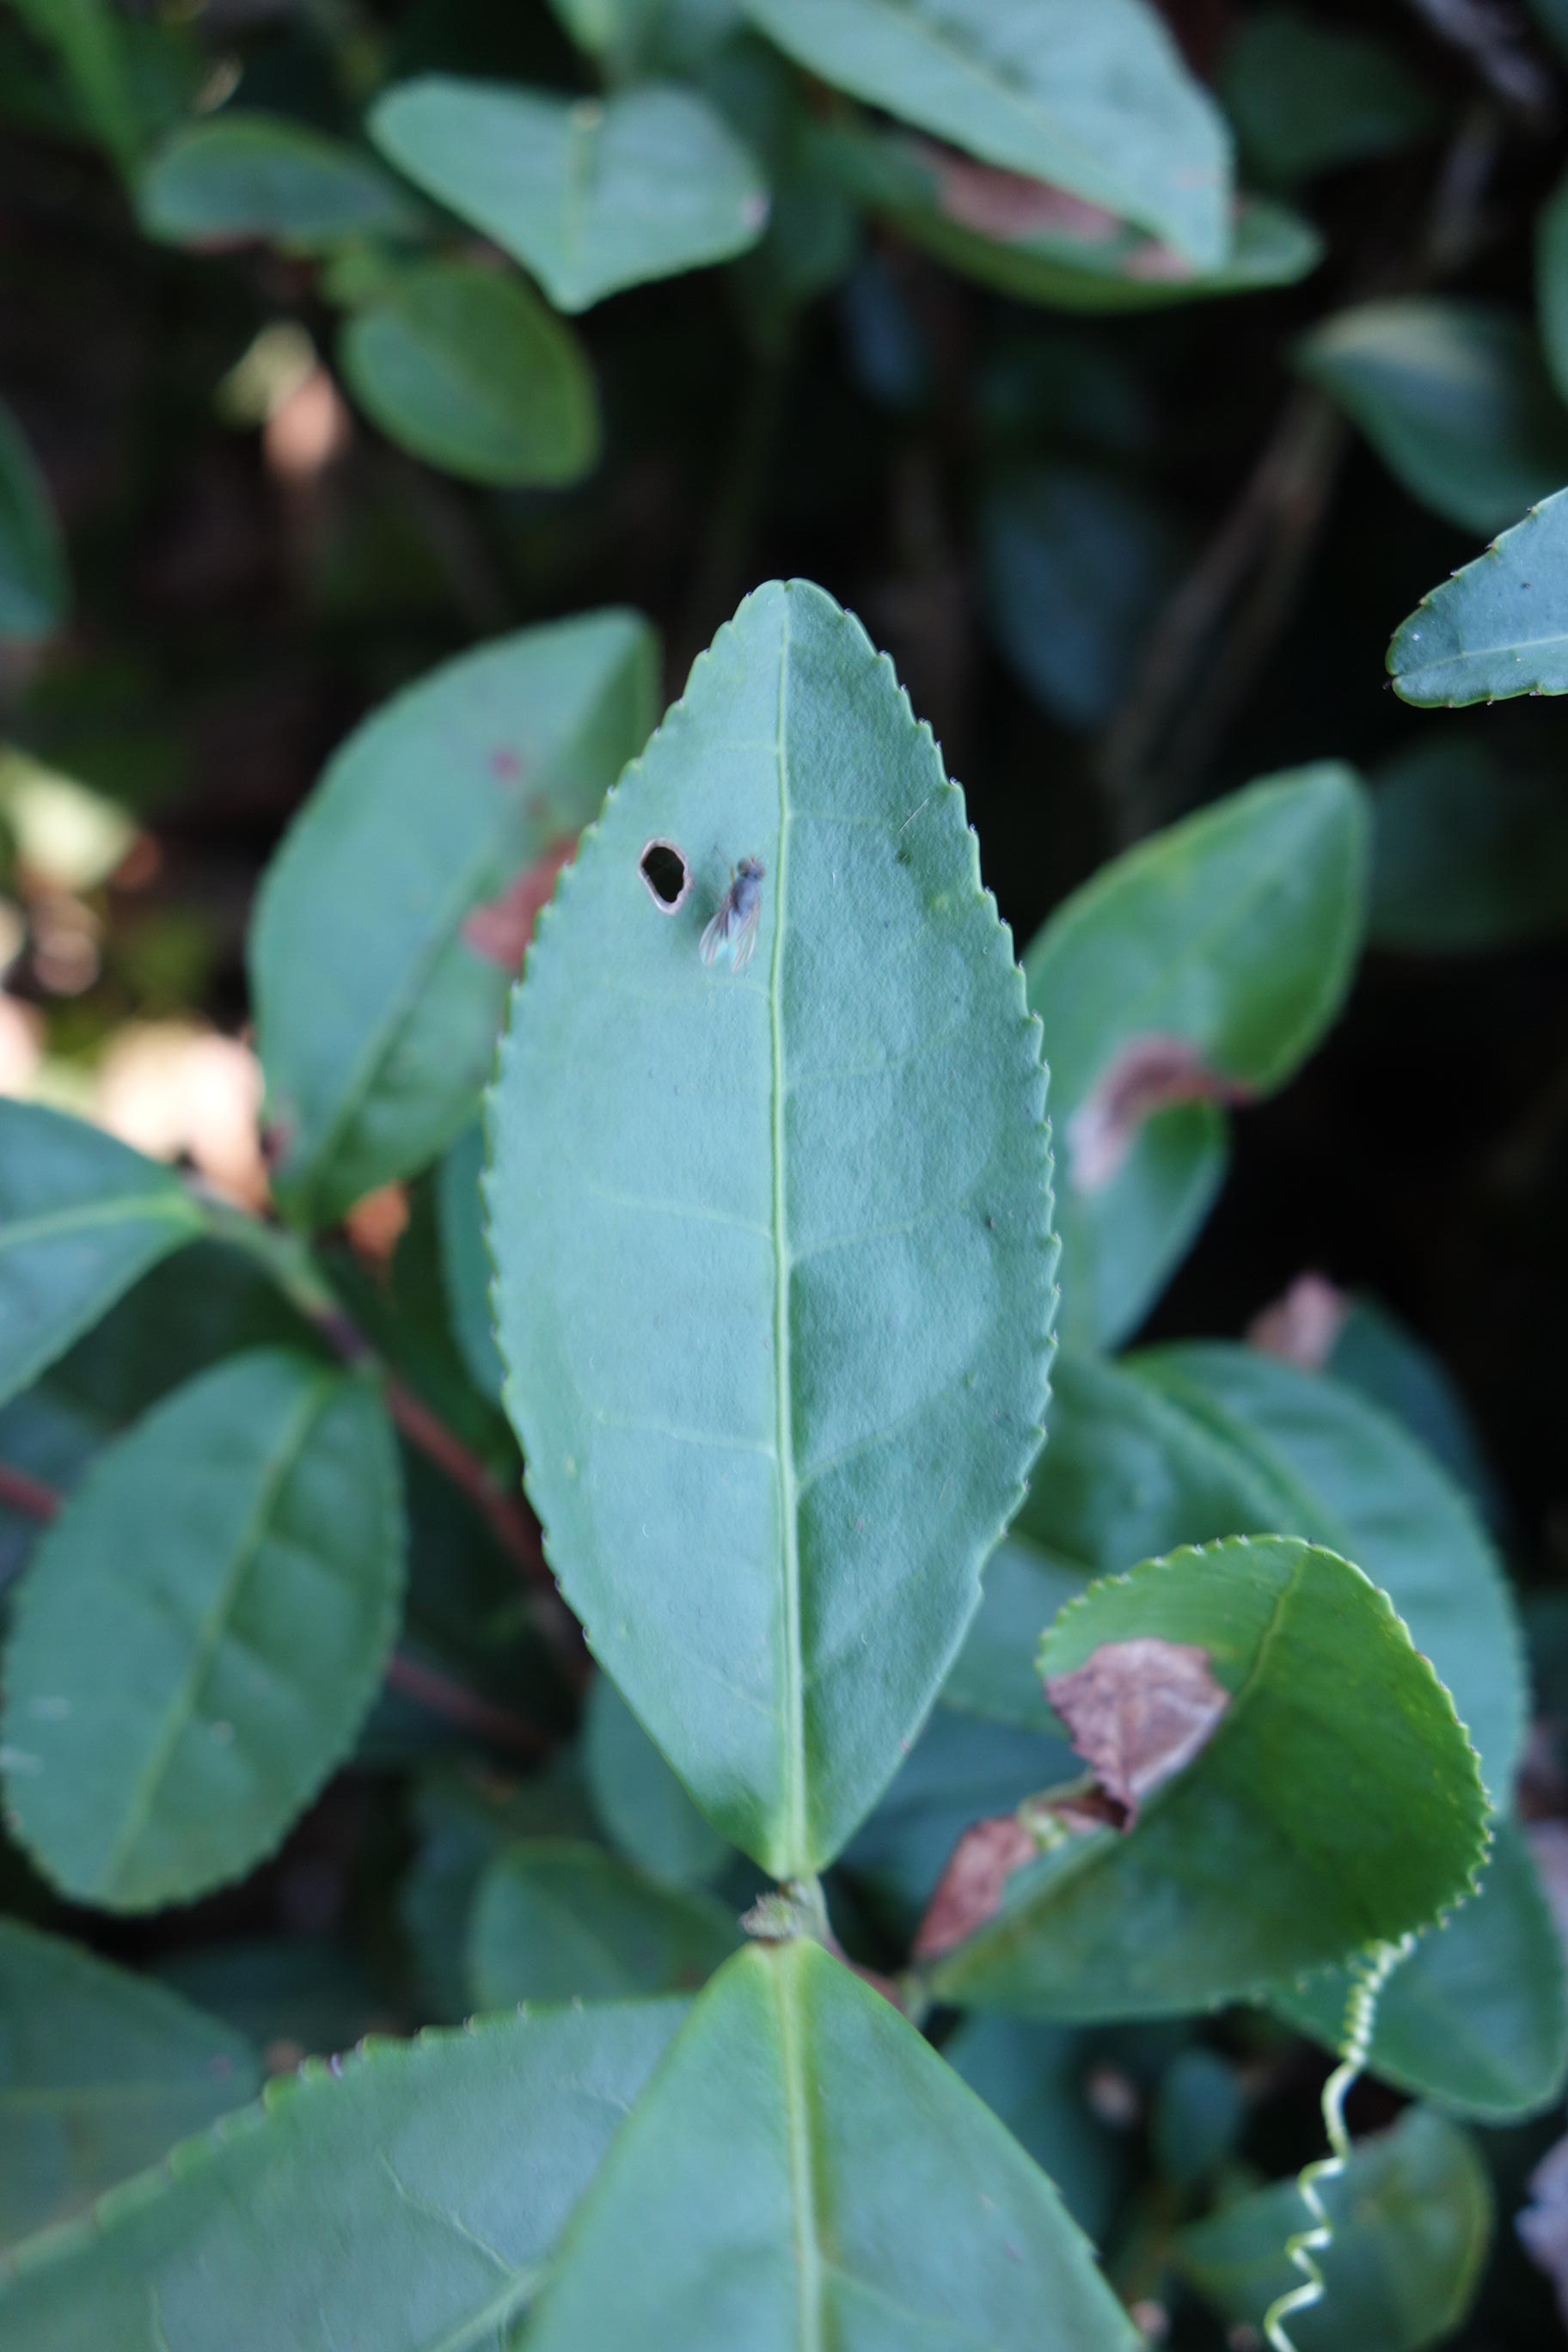chihuo_low: (485, 572, 1062, 1883)
tanju_high: (917, 1535, 1486, 2025)
